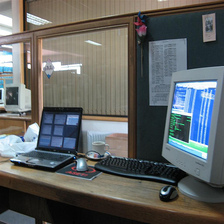laptop: (9, 101, 86, 173)
